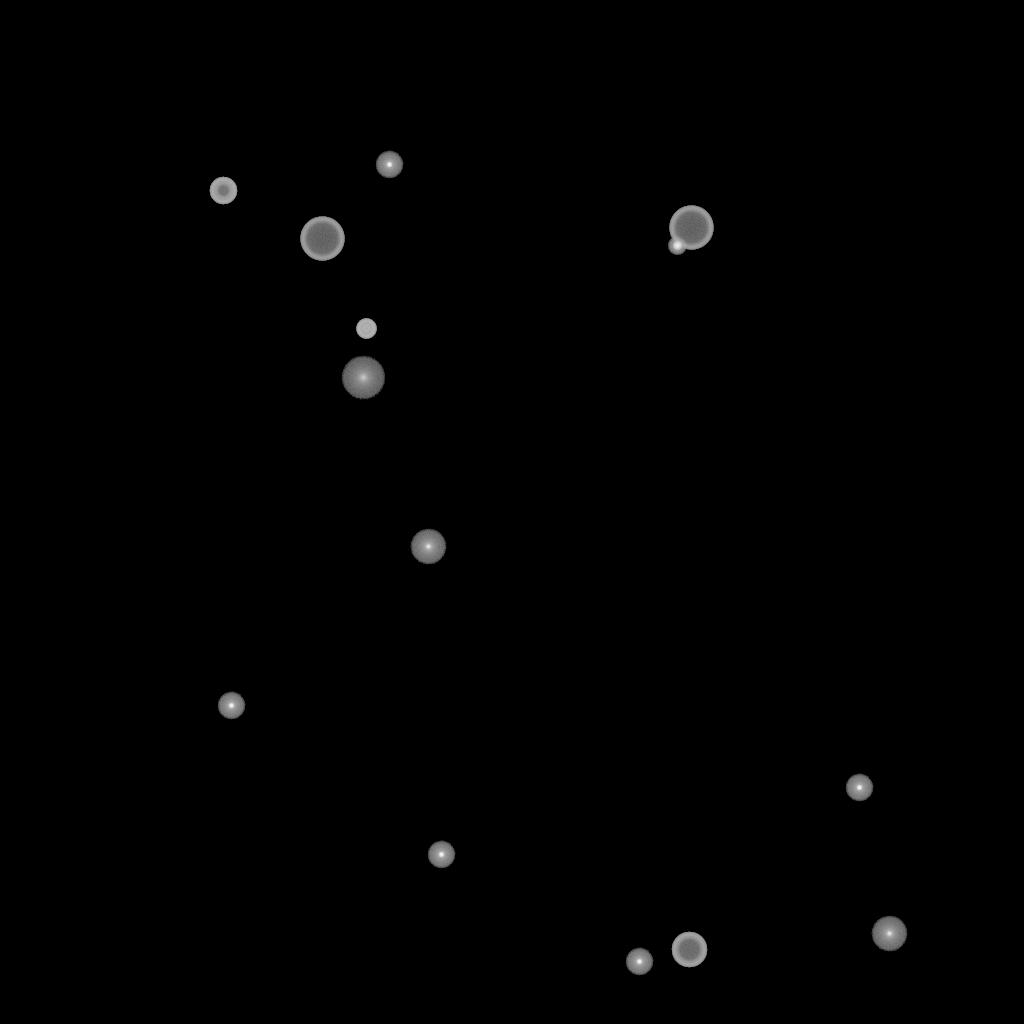depth:-10: (427, 841, 455, 869), (217, 692, 245, 720), (845, 774, 873, 802), (375, 151, 403, 179), (625, 948, 653, 976)
depth:-20: (668, 237, 686, 255)
depth:-40: (356, 319, 376, 339)
depth:-50: (209, 177, 237, 205)
depth:-60: (671, 932, 707, 968)
depth:-70: (300, 217, 344, 261), (669, 206, 713, 250)
depth:0: (410, 529, 446, 565), (871, 916, 907, 952)
depth:10: (341, 356, 385, 400)
